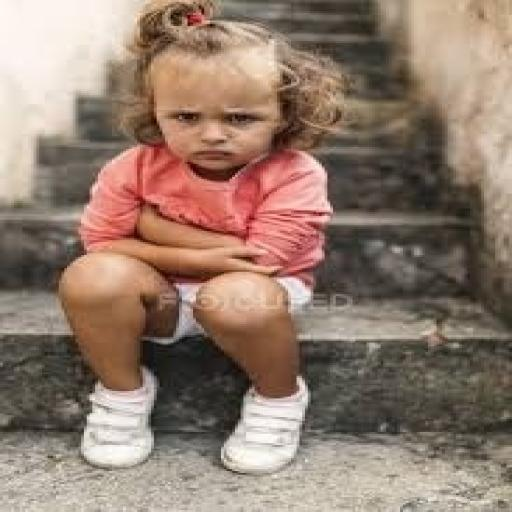sitting: (53, 0, 350, 477)
